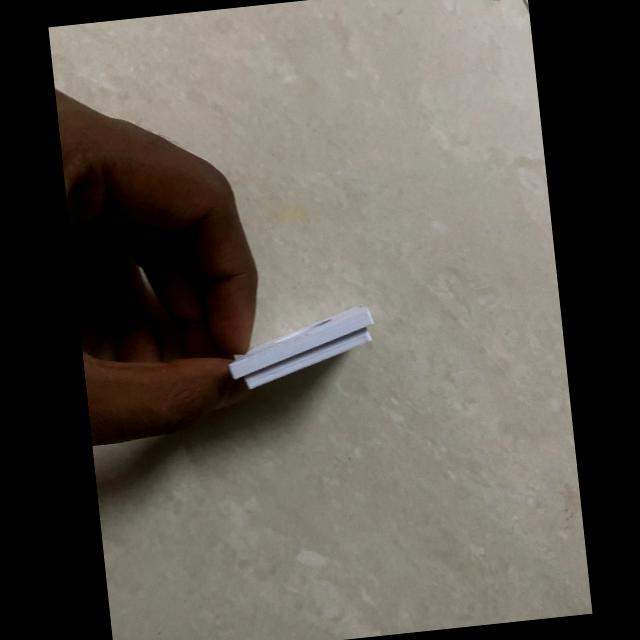RASPBERY PI CAM ENCLOSURE: (223, 302, 380, 391)
